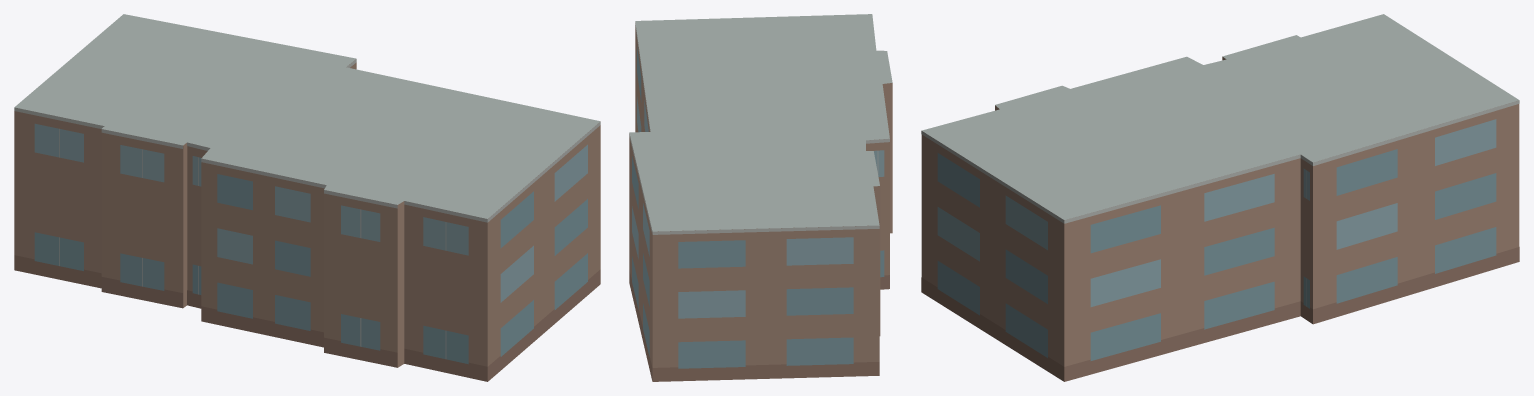
File: survey-upis-32496507.glb
3 renders of one model, left to right at view 1: azimuth 30°, elevation 25°; view 2: azimuth 150°, elevation 25°; view 3: azimuth 270°, elevation 25°, orthographic. The views are drawn at different scales.
Visible parts, largest first — view 1: survey-upis-32496507.tmp; view 2: survey-upis-32496507.tmp; view 3: survey-upis-32496507.tmp.
Part boxes in pixels (box(x1,y1,x2,y2)): survey-upis-32496507.tmp: box(14, 14, 600, 381); survey-upis-32496507.tmp: box(629, 14, 892, 381); survey-upis-32496507.tmp: box(921, 14, 1519, 381).
Size of the model in its own units: 29.84 by 10.91 by 36.57.
